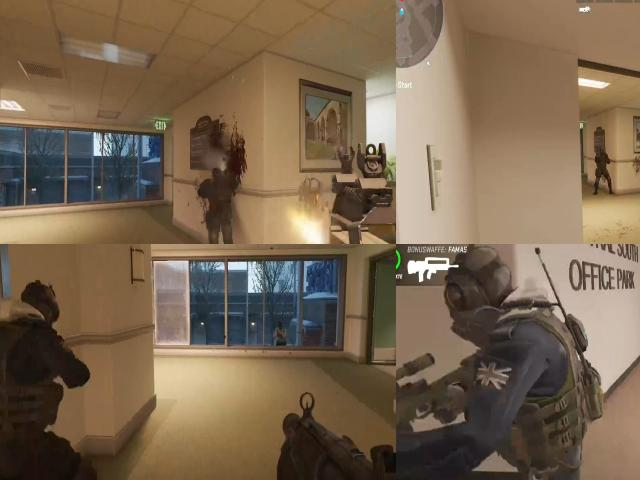CT: (445, 244, 580, 480), (0, 274, 74, 480), (594, 146, 610, 176)
CT-Head: (451, 248, 513, 344), (199, 163, 239, 244), (0, 277, 63, 323), (598, 146, 607, 156)
T: (274, 321, 287, 349)
T-Head: (274, 318, 287, 334)
